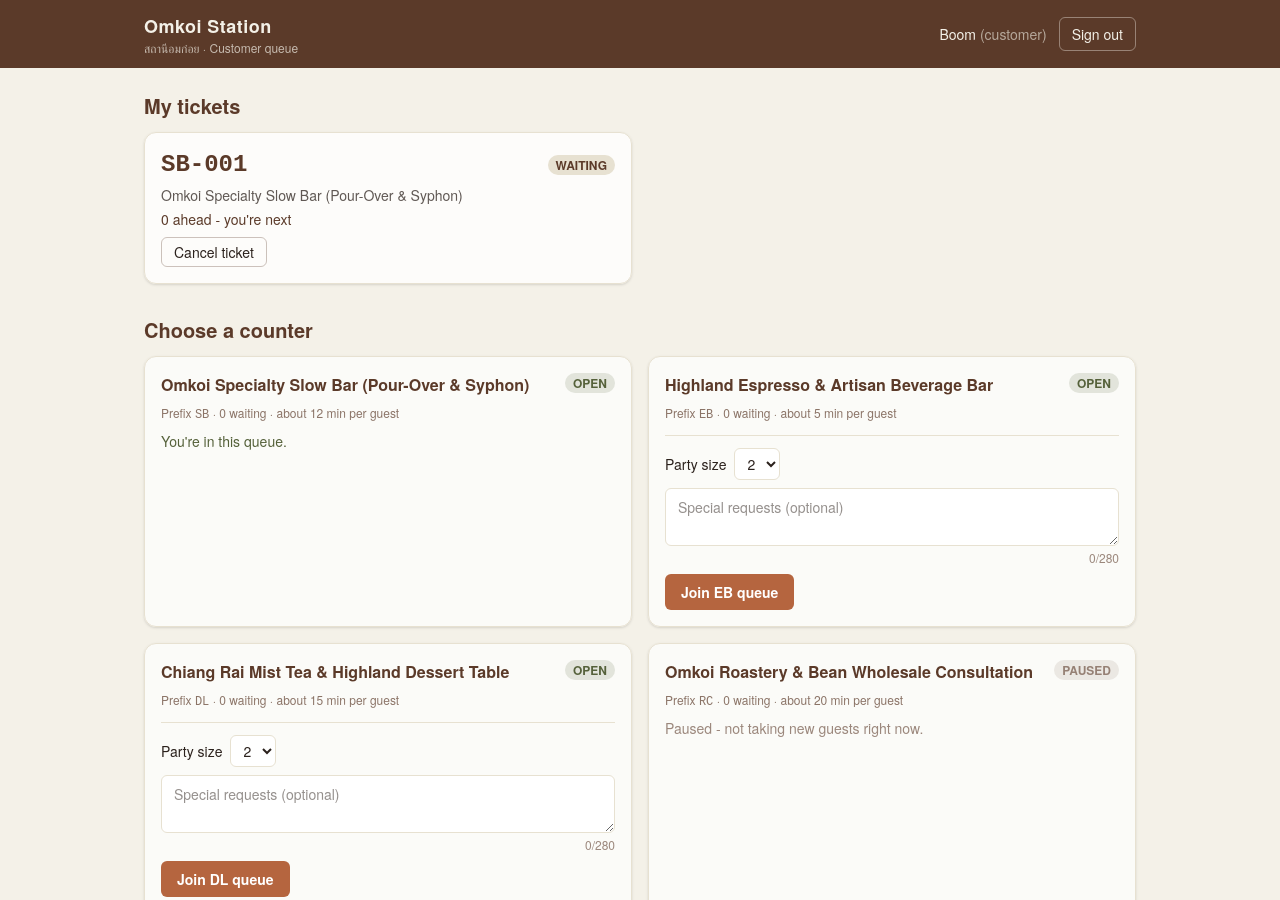
Test: TEST-13 / AC-04, NFR-05: customer queue portal (component, mocked API) › asks for a 3-200 character reason before cancelling a waiting ticket
Step 1. Click the button "Cancel ticket" → click(214, 252), box [161,237,267,267]
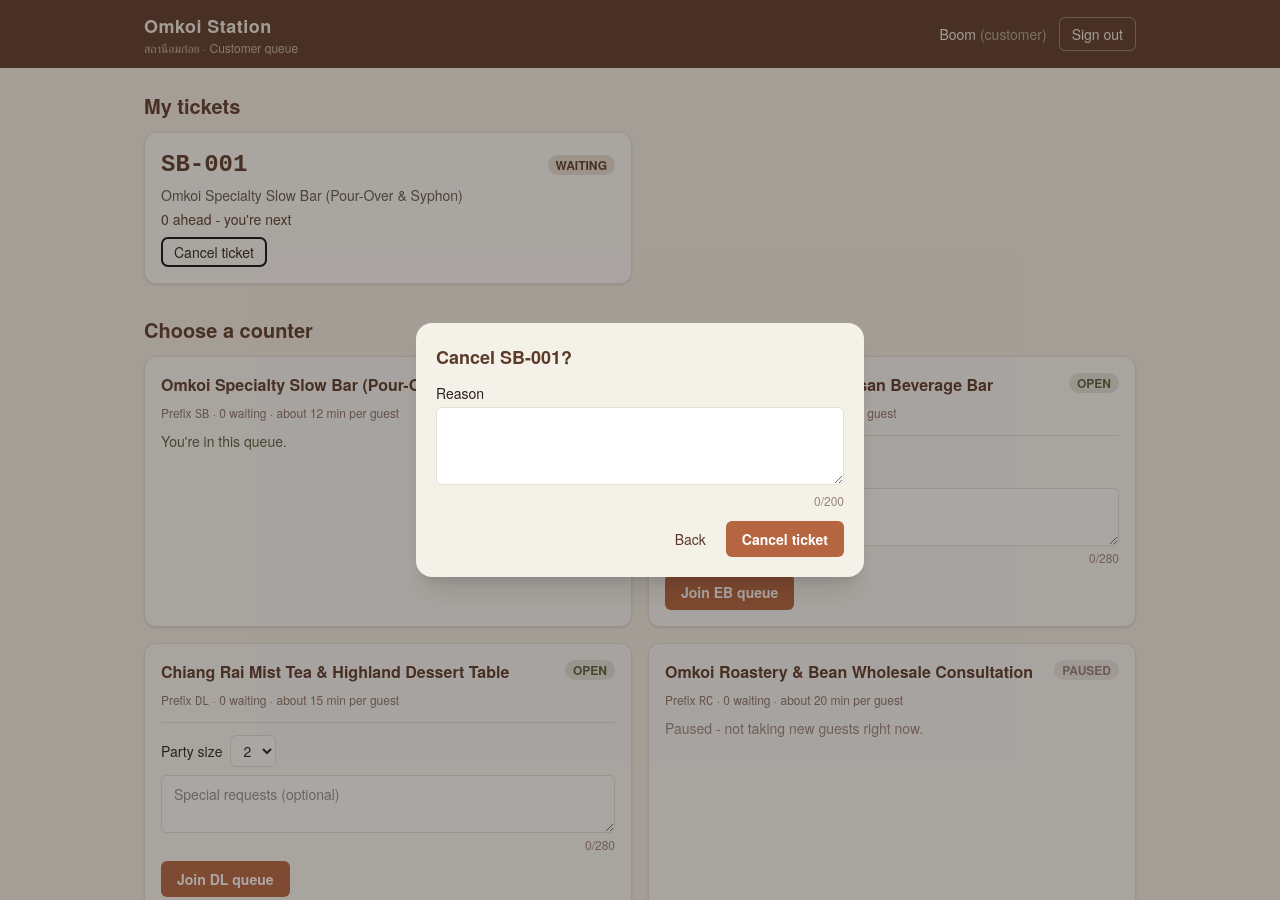
Step 2. Type "ab" into the text box labelled "Reason" → (640, 446), box [436,407,844,485]
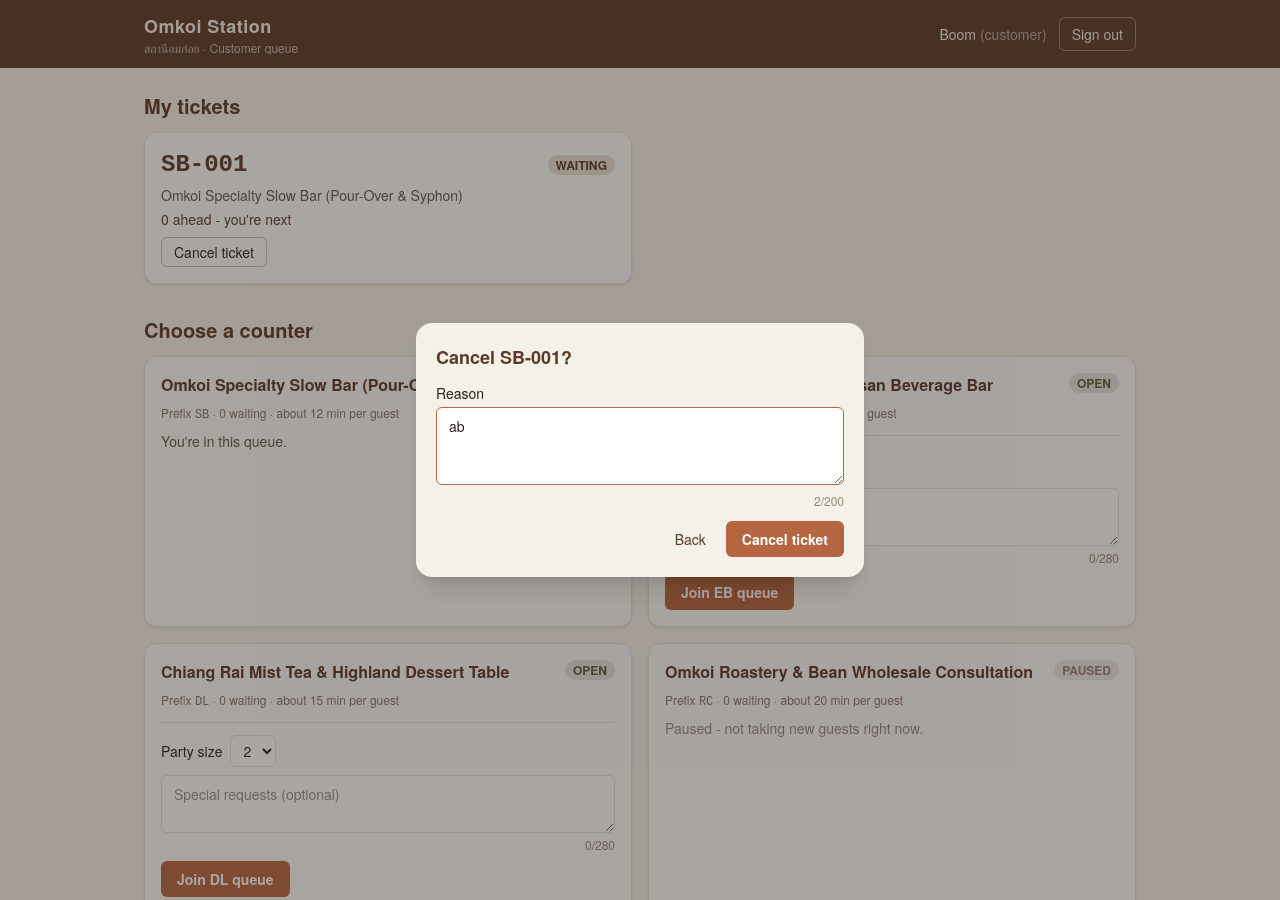
Step 3. Click the button "Cancel ticket" → click(785, 539), box [726,521,844,557]
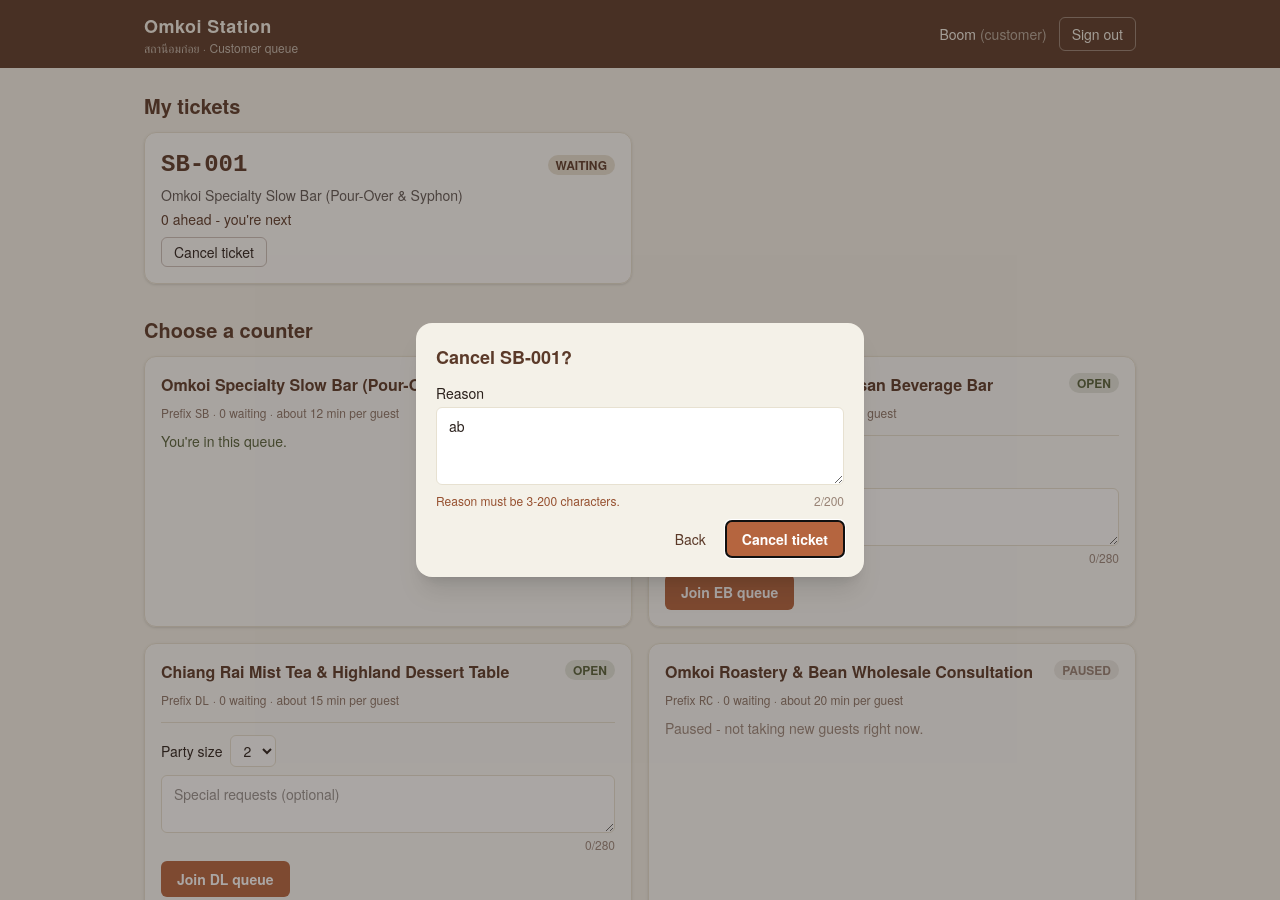
Result: the text "Reason must be 3-200 characters." is shown at [436,493,620,509]
Step 4. Type "c - schedule changed" into the text box labelled "Reason" → (640, 446), box [436,407,844,485]
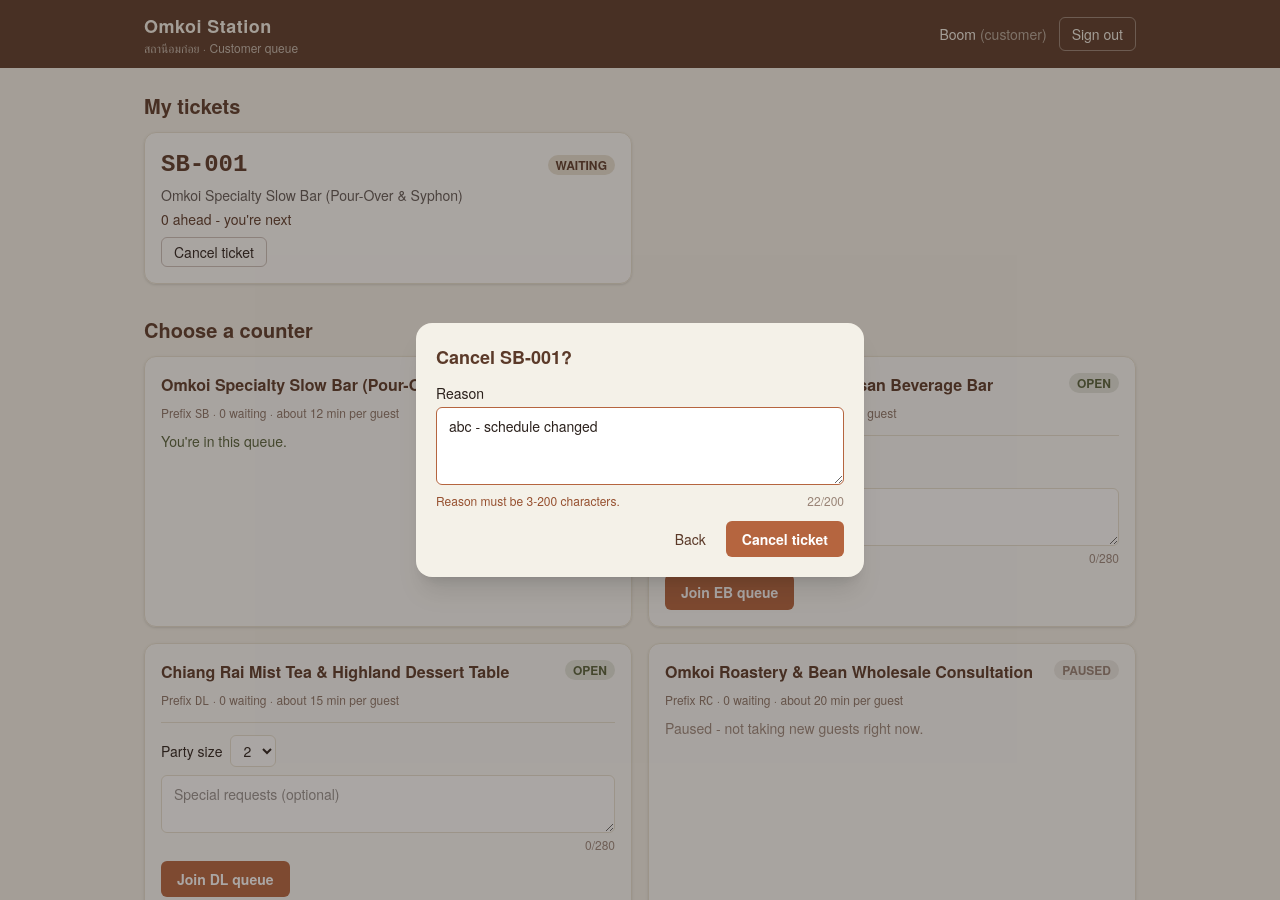
Step 5. Click the button "Cancel ticket" → click(785, 539), box [726,521,844,557]
(page scrolled)
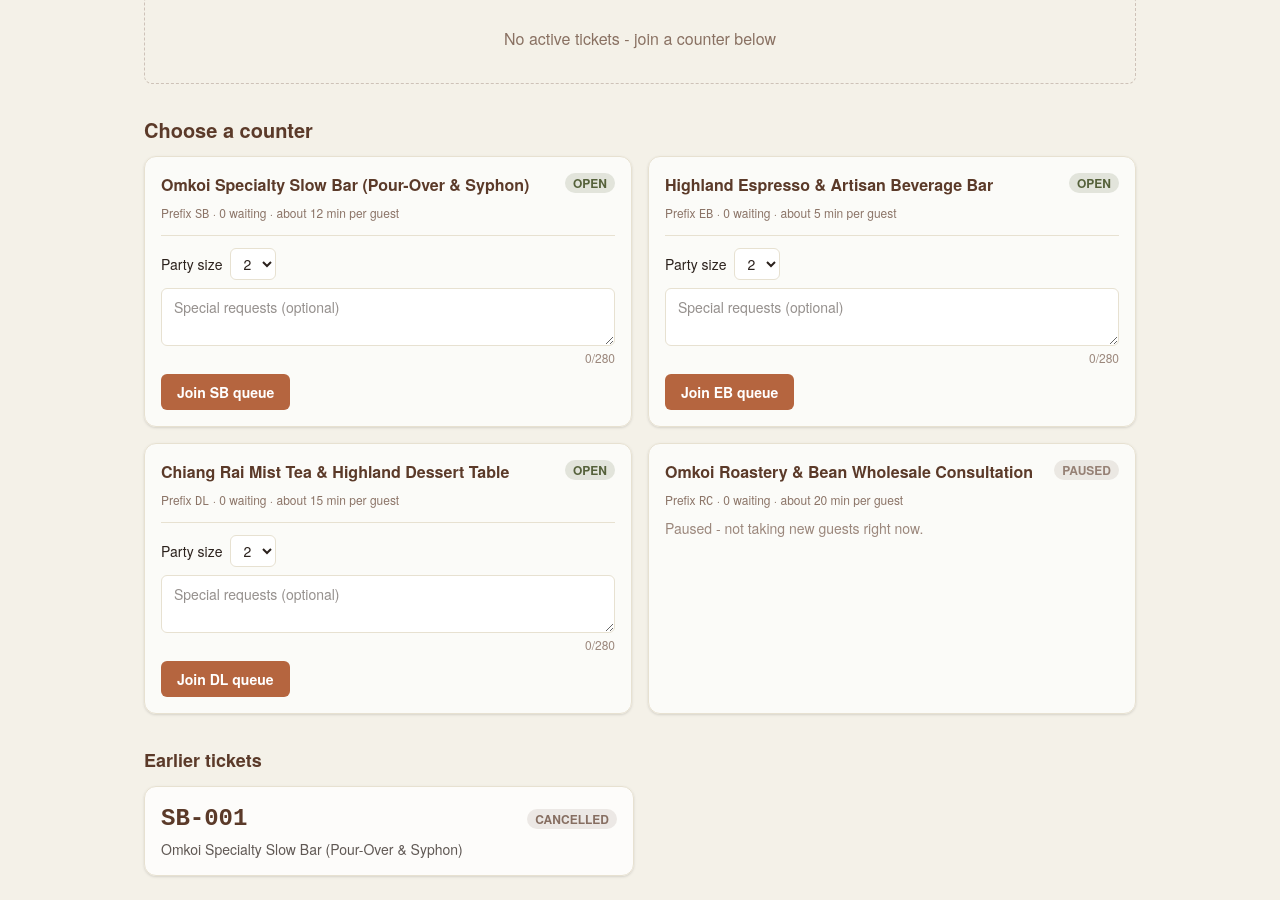
Result: the heading "Earlier tickets" is shown at [144,747,262,773]
Result: the text "CANCELLED" is shown at [527,809,617,829]
